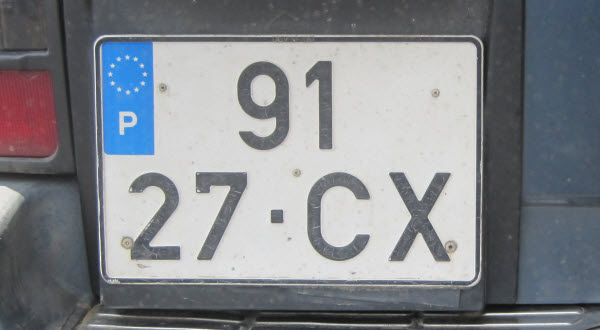license_plate: (93, 33, 483, 289)
